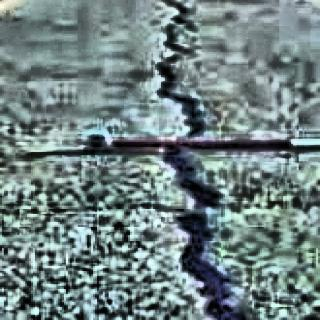crack: (160, 0, 258, 320)
